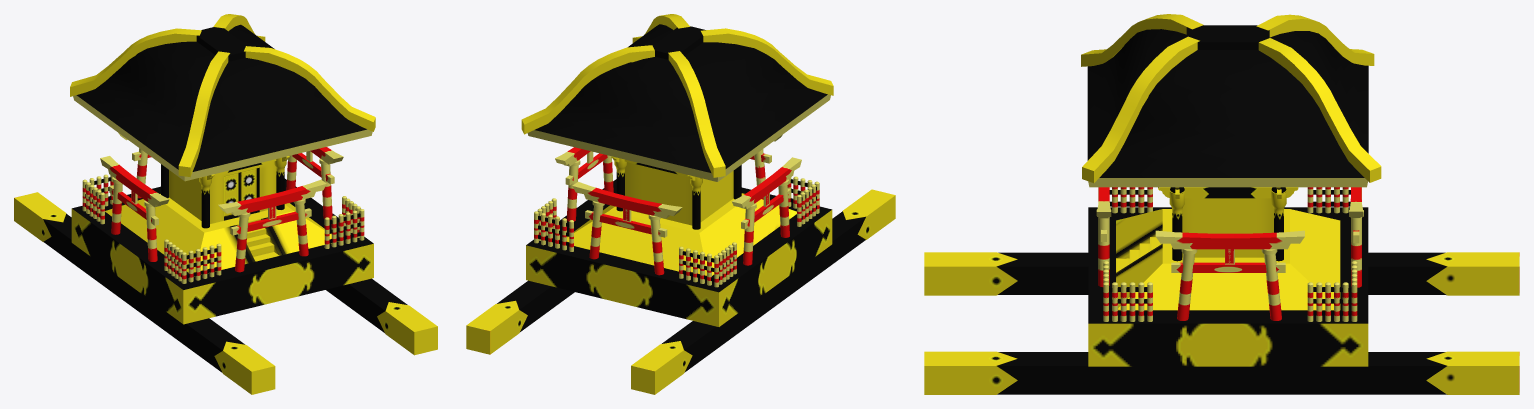
Rendered from mikosi.FBX.
3 views of the same model, side by side, from view 1: azimuth 30°, elevation 25°; view 2: azimuth 150°, elevation 25°; view 3: azimuth 270°, elevation 25° (orthographic). The views are drawn at different scales.
Parts seen in each view (by area): view 1: Box020; view 2: Box020; view 3: Box020.
Part boxes in pixels (left/top/right/bottom): Box020: left=14, top=14, right=437, bottom=394; Box020: left=466, top=14, right=895, bottom=394; Box020: left=924, top=14, right=1519, bottom=394.
Bounding box in the file's own units: 165 × 193 × 342.
Materials: 1 (1 with a texture image).
